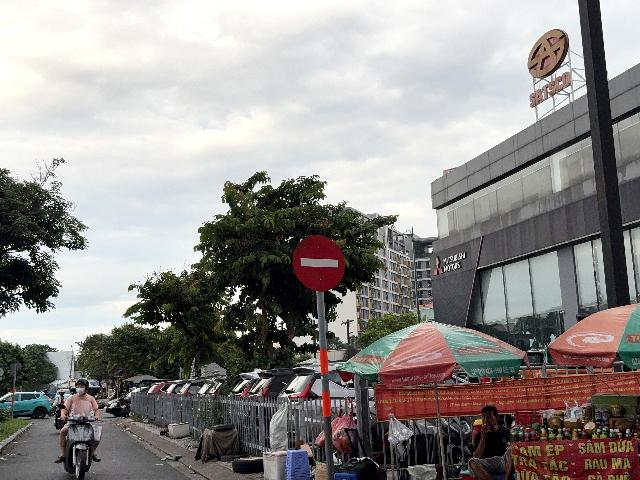cam-di-nguoc-chieu: (293, 235, 344, 291)
